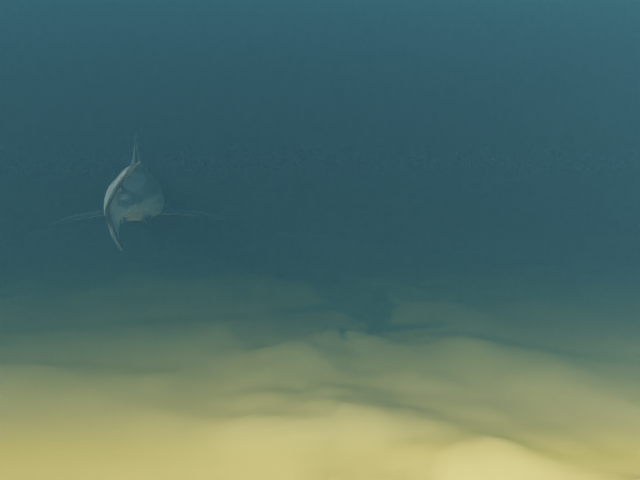Carribean Shark.001: (47, 133, 226, 251)
